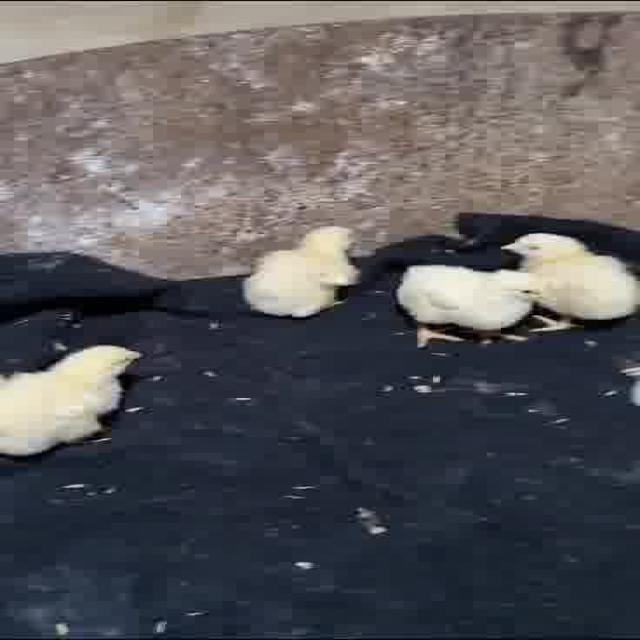poussin: (0, 332, 153, 463), (502, 226, 640, 339), (400, 256, 548, 352), (245, 220, 367, 325)
